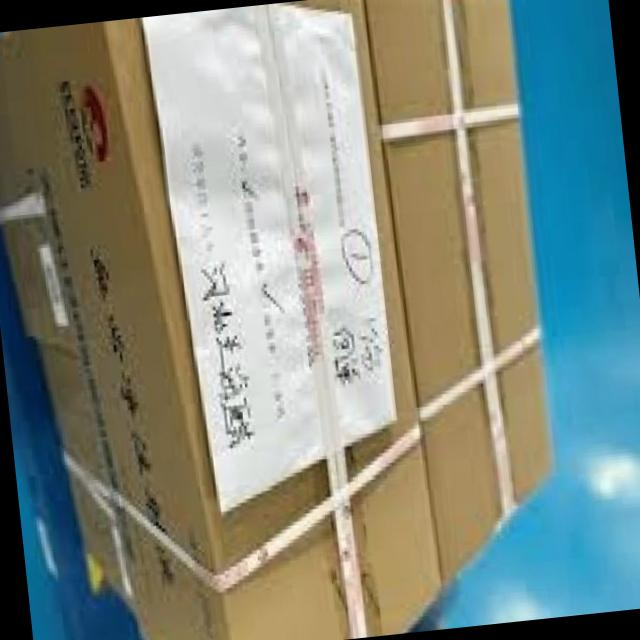cardboard paper: (0, 0, 551, 640), (142, 2, 395, 507)
